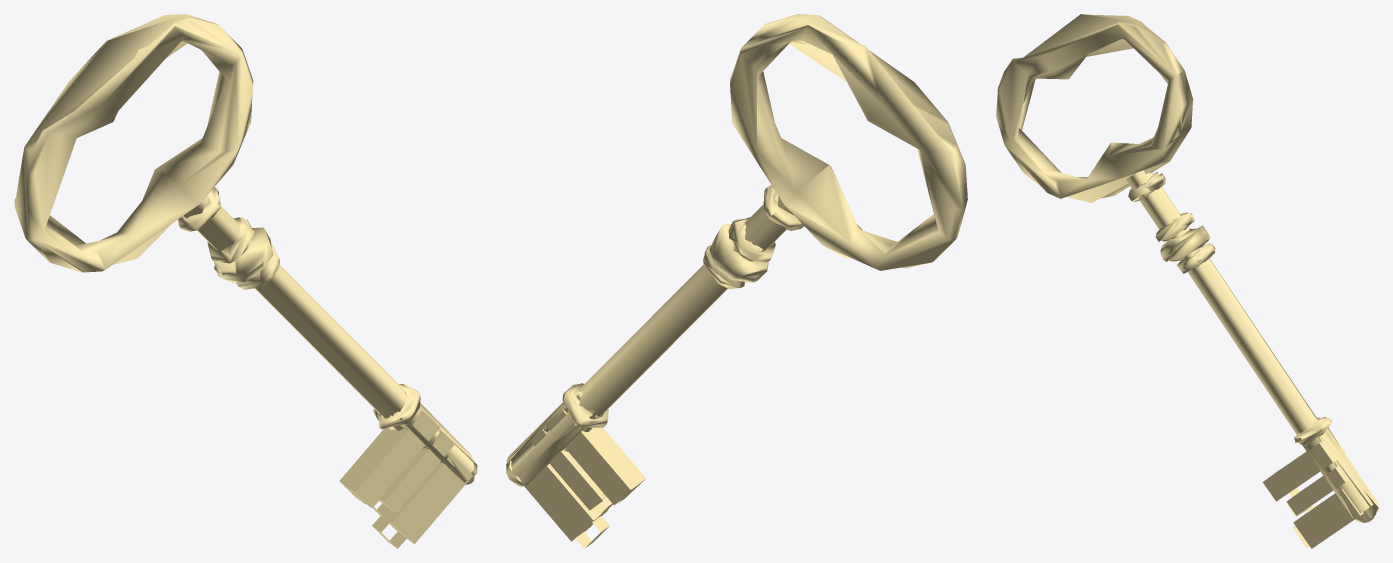
File: key1.fbx
3 renders of one model, left to right at view 1: azimuth 30°, elevation 25°; view 2: azimuth 150°, elevation 25°; view 3: azimuth 330°, elevation 25°, orthographic. The views are drawn at different scales.
Parts seen in each view (by area): view 1: Key; view 2: Key; view 3: Key.
Part boxes in pixels (bbox=[...]): Key: bbox=[14, 14, 477, 548]; Key: bbox=[506, 14, 967, 548]; Key: bbox=[996, 14, 1378, 548].
Bounding box in the file's own units: 44.93 × 54.53 × 5.66.
